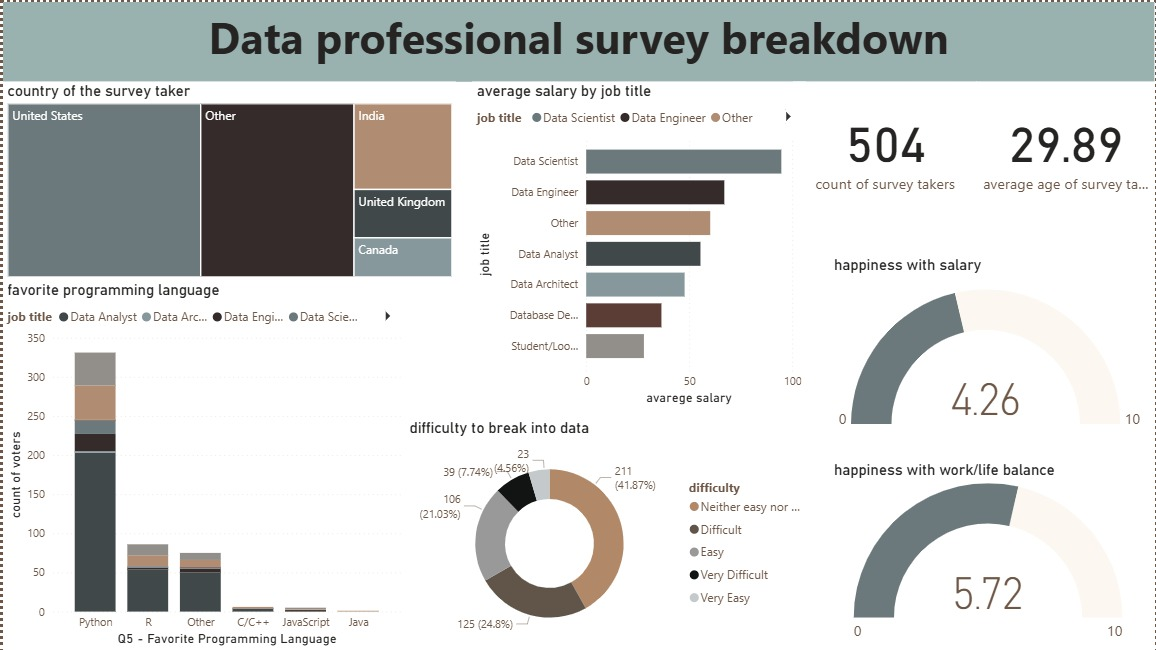

This screenshot's page, from the dashboard's own definition file:
{"tool":"powerbi","page":{"name":"Page 1","canvas":[1280,720],"ordinal":0},"visuals":[{"type":"textbox","box":[0,0,1279.4,88.8],"z":0},{"type":"card","fields":{"Values":["Count(Data Professional Survey.Unique ID)"]},"box":[878.3,88.3,203.3,148.3],"z":1000},{"type":"card","fields":{"Values":["Avg(Data Professional Survey.Q10 - Current Age)"]},"box":[1081.7,88.3,198.3,148.3],"z":2000},{"type":"barChart","title":"average salary by job title","fields":{"Category":["Data Professional Survey.Q1 - Which Title Best Fits your Current Role?.1"],"Y":["Avg(Data Professional Survey.avg salary)"],"Series":["Data Professional Survey.Q1 - Which Title Best Fits your Current Role?.1"]},"box":[521.7,88.3,370,363.3],"z":3000},{"type":"columnChart","title":"favorite programming language","fields":{"Category":["Data Professional Survey.Q5 - Favorite Programming Language.1"],"Y":["CountNonNull(Data Professional Survey.Unique ID)"],"Series":["Data Professional Survey.Q1 - Which Title Best Fits your Current Role?.1"]},"box":[0,310,446.7,410],"z":4000},{"type":"treemap","title":"country of the survey taker","fields":{"Group":["Data Professional Survey.Q11 - Which Country do you live in?.1"],"Values":["CountNonNull(Data Professional Survey.Q11 - Which Country do you live in?.1)"]},"box":[0,88.3,503.3,221.7],"z":5000},{"type":"gauge","title":"happiness with work/life balance","fields":{"Y":["Avg(Data Professional Survey.Q6 - How Happy are you in your Current Position with the following? (Work/Life Balance))"],"MinValue":["Min(Data Professional Survey.Q6 - How Happy are you in your Current Position with the following? (Work/Life Balance))"],"MaxValue":["Max(Data Professional Survey.Q6 - How Happy are you in your Current Position with the following? (Work/Life Balance))1"]},"box":[918.3,510,351.7,210],"z":6000},{"type":"gauge","title":"happiness with salary","fields":{"Y":["Avg(Data Professional Survey.Q6 - How Happy are you in your Current Position with the following? (Salary))"],"MinValue":["Min(Data Professional Survey.Q6 - How Happy are you in your Current Position with the following? (Salary))"],"MaxValue":["Max(Data Professional Survey.Q6 - How Happy are you in your Current Position with the following? (Salary))"]},"box":[918.3,281.7,355,210],"z":7000},{"type":"donutChart","title":"difficulty to break into data","fields":{"Category":["Data Professional Survey.Q7 - How difficult was it for you to break into Data?"],"Y":["CountNonNull(Data Professional Survey.Q7 - How difficult was it for you to break into Data?)"]},"box":[446.7,463.3,453.3,256.7],"z":8000}]}

Visuals, with their boxes in screenshot pixels (x1, y1, x2, y2), scaled from the page's 1280x720 canvas onto the 1156x650 screenshot:
textbox: [0, 0, 1155, 80]
card - Count(Data Professional Survey.Unique ID): [793, 80, 977, 214]
card - Avg(Data Professional Survey.Q10 - Current Age): [977, 80, 1155, 214]
"average salary by job title" barChart: [471, 80, 805, 408]
"favorite programming language" columnChart: [0, 280, 403, 649]
"country of the survey taker" treemap: [0, 80, 455, 280]
"happiness with work/life balance" gauge: [829, 460, 1147, 649]
"happiness with salary" gauge: [829, 254, 1150, 444]
"difficulty to break into data" donutChart: [403, 418, 813, 649]
